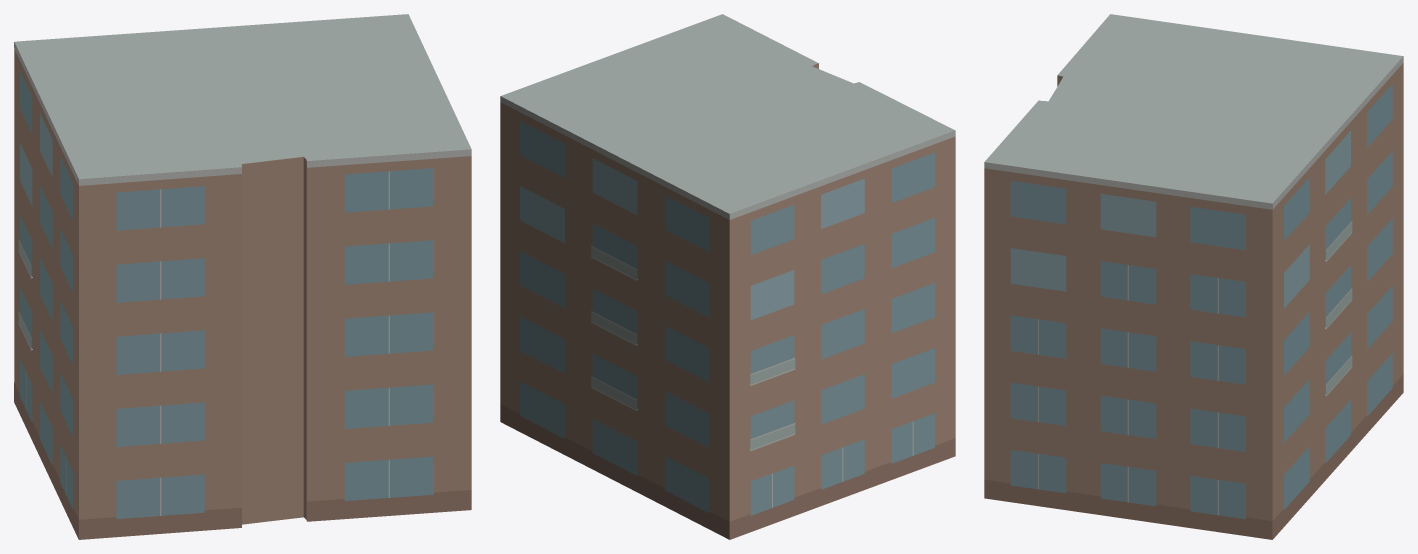
The model's file is survey-upis-32890816.glb.
The picture shows the model from 3 angles, left to right: view 1: azimuth 30°, elevation 25°; view 2: azimuth 150°, elevation 25°; view 3: azimuth 270°, elevation 25°; orthographic projection. The views are drawn at different scales.
Parts seen in each view (by area): view 1: survey-upis-32890816.tmp; view 2: survey-upis-32890816.tmp; view 3: survey-upis-32890816.tmp.
Part boxes in pixels (left/top/right/bottom): survey-upis-32890816.tmp: left=14, top=14, right=471, bottom=539; survey-upis-32890816.tmp: left=500, top=14, right=955, bottom=539; survey-upis-32890816.tmp: left=984, top=14, right=1403, bottom=539.
Size of the model in its own units: 15.97 by 13.2 by 14.93.
